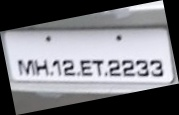character: (17, 59, 35, 75), (34, 58, 49, 76), (107, 59, 121, 77), (136, 58, 148, 78), (62, 59, 75, 77), (149, 59, 162, 77), (122, 59, 135, 76), (80, 59, 92, 77), (92, 59, 104, 75), (52, 59, 62, 77)
